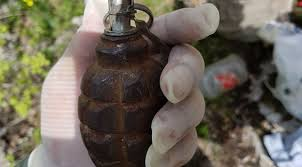e1: (78, 1, 175, 167)
